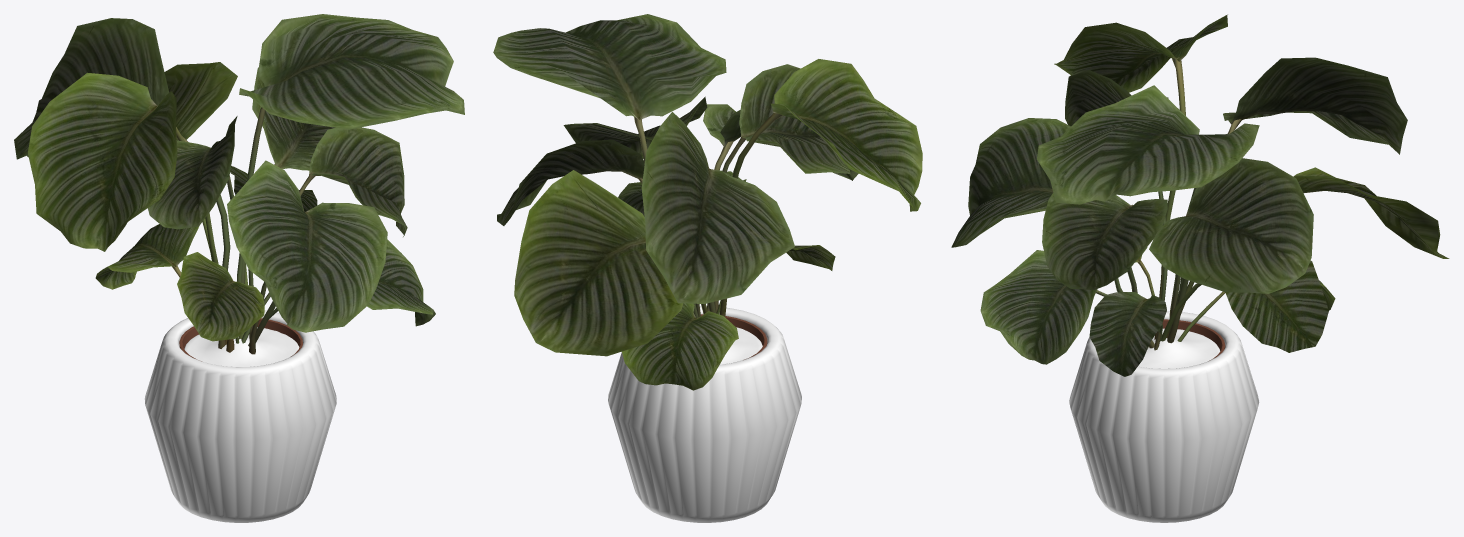
The model's file is calathea.gltf.
The picture shows the model from 3 angles, left to right: view 1: azimuth 30°, elevation 25°; view 2: azimuth 150°, elevation 25°; view 3: azimuth 270°, elevation 25°; orthographic projection. The views are drawn at different scales.
Parts seen in each view (by area): view 1: calathea Leaves, Ceramic pot, Soil, Plastic pot; view 2: calathea Leaves, Ceramic pot, Soil; view 3: calathea Leaves, Ceramic pot, Soil, Plastic pot.
Boxes of the visible parts, <box> form: calathea Leaves: <box>14,14,464,354</box>; Ceramic pot: <box>144,310,336,522</box>; Soil: <box>184,327,299,366</box>; Plastic pot: <box>179,318,302,361</box>; calathea Leaves: <box>493,14,922,390</box>; Ceramic pot: <box>608,306,801,522</box>; Soil: <box>720,327,762,364</box>; calathea Leaves: <box>951,14,1449,376</box>; Ceramic pot: <box>1069,311,1259,522</box>; Soil: <box>1138,328,1220,368</box>; Plastic pot: <box>1162,319,1225,360</box>.
Size of the model in its own units: 0.5257 by 0.5425 by 0.5652.
4 materials, 1 textured.
